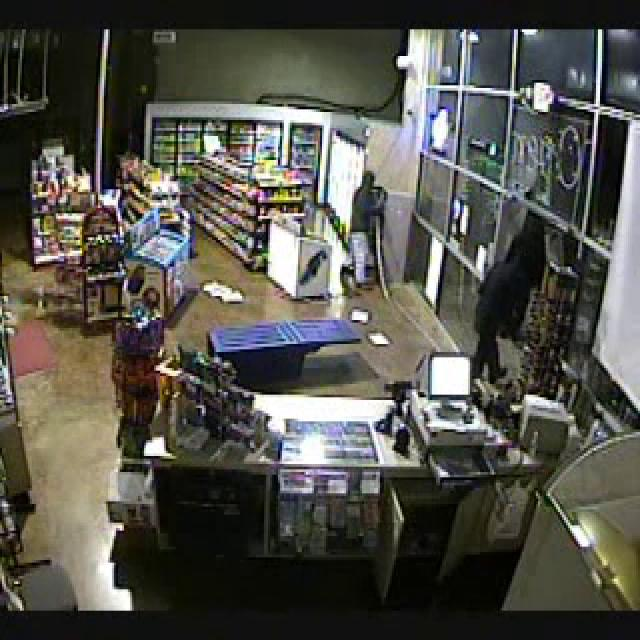burglary: (274, 0, 640, 599)
